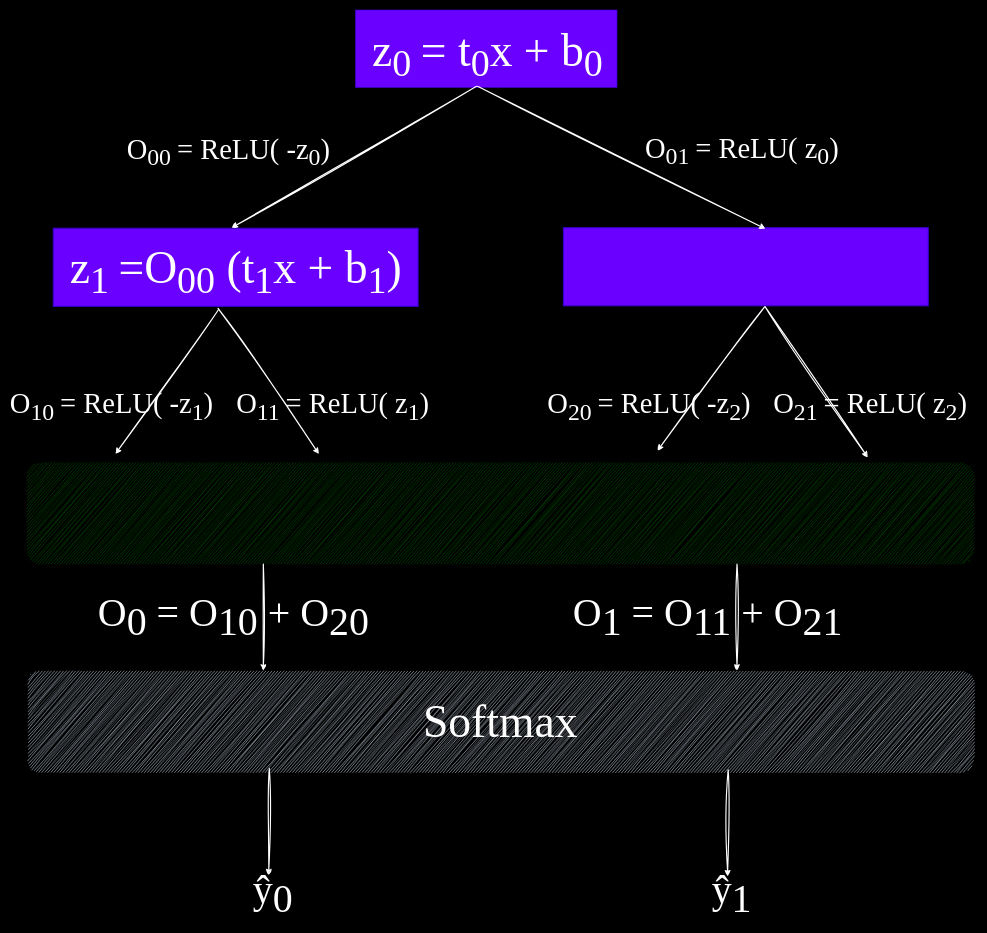
Image size: 987x933. Some labels were removed from this diagram. The shapes that lost their labels are listed below. From the top down, each one's centre as x and y in pixels, then its label:
At pixel 746 267: "z 2 = O 01 (t 2 x + b 2 )".
At pixel 500 513: "Segregator & Adder".
